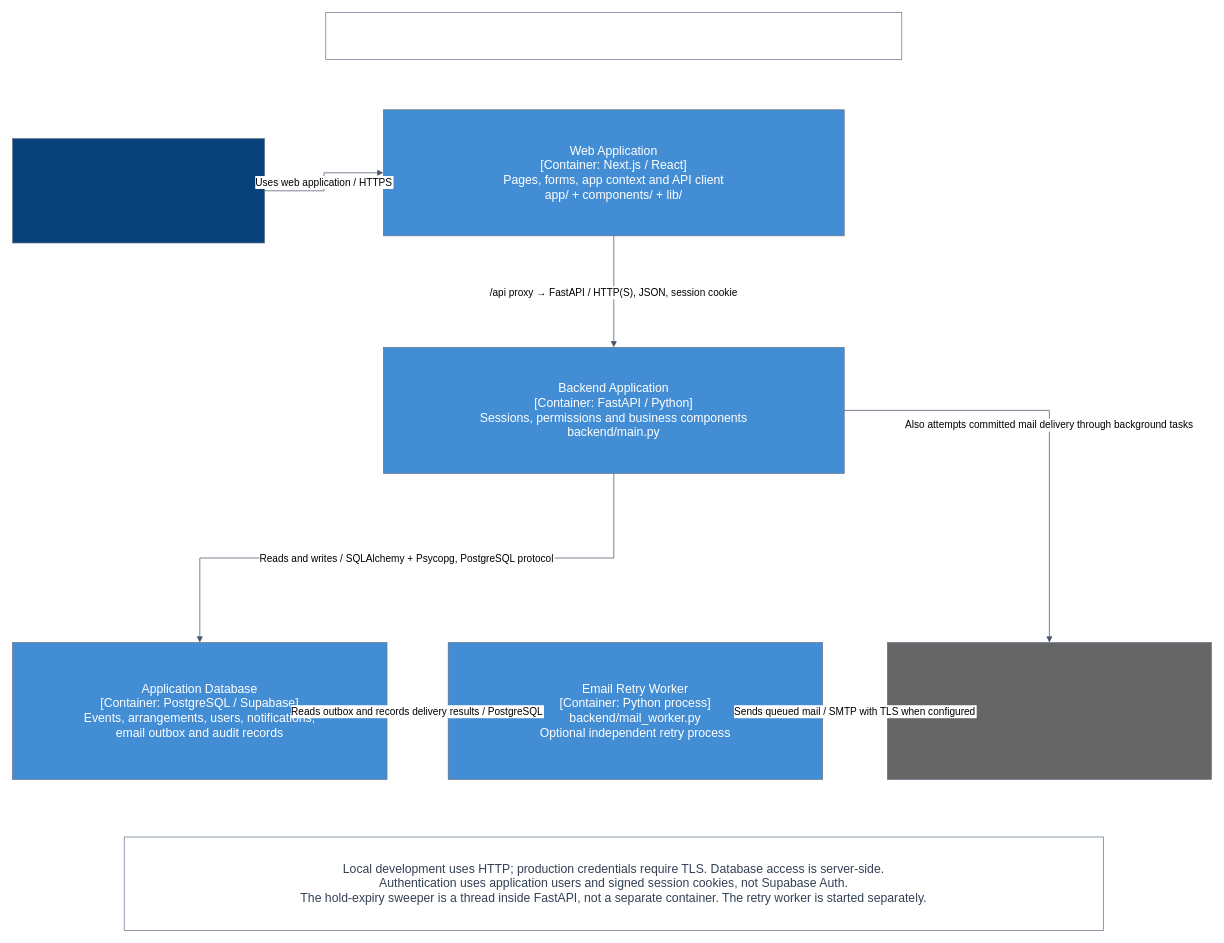
The diagram is 1224 pixels wide and 943 high, and some of its shapes have lost their labels. The centre of each missing label's shape, as x and y in pixels:
"ConnectSphere Users [Person] Seven authorised roles" belongs at (x=138, y=190).
"ConnectSphere | C2 Containers" belongs at (x=613, y=35).
"Email Service [External System] Configured SMTP provider" belongs at (x=1049, y=710).
